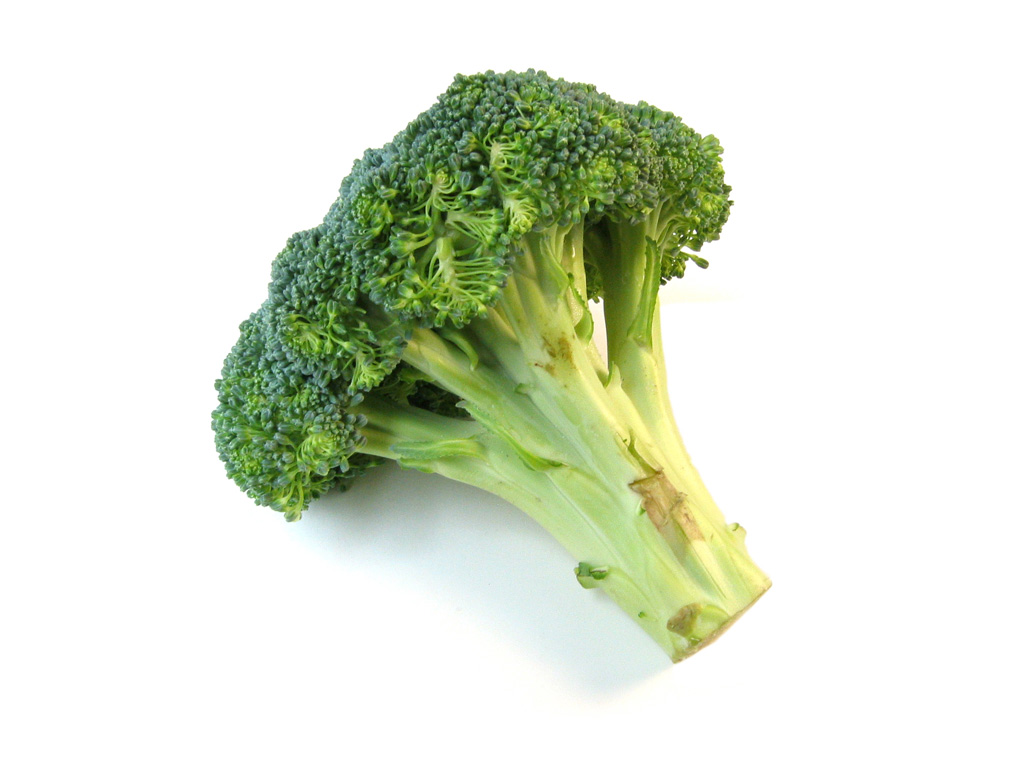broccoli: (207, 63, 772, 662)
